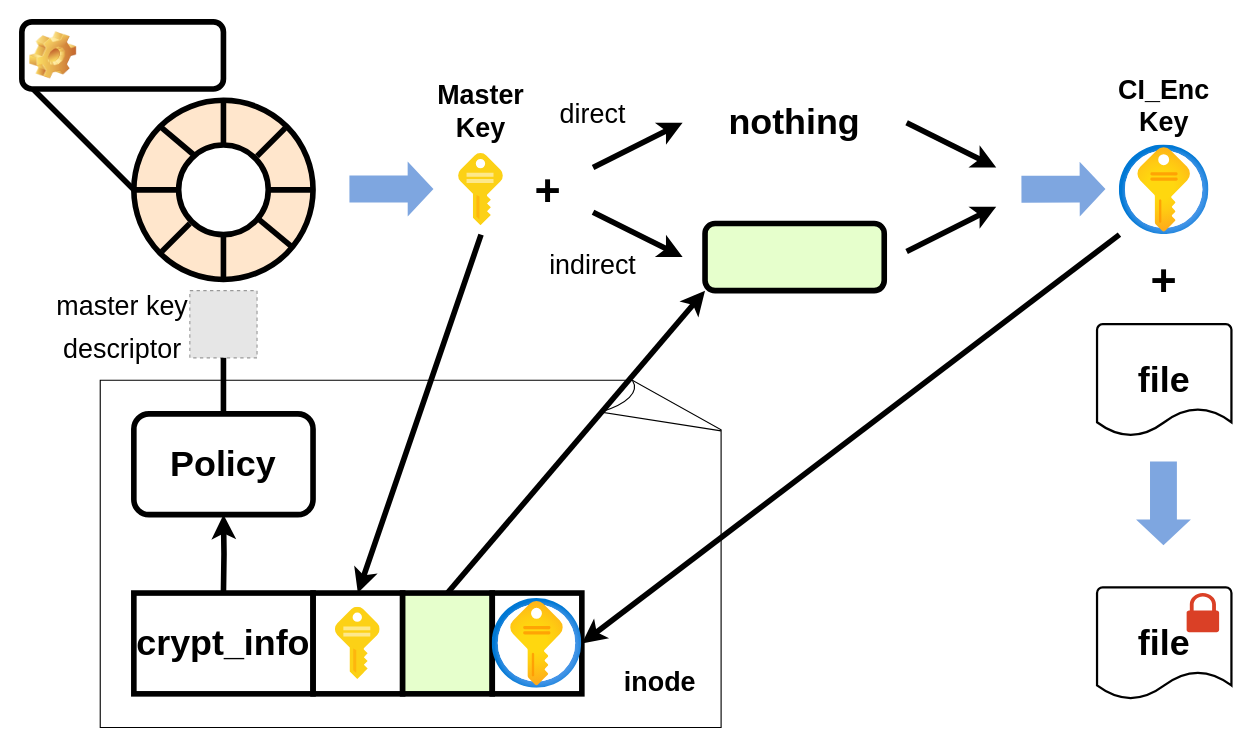
This 1252x747 diagram has some shape labels left out. Grey dashed boxes stand in for pictures. Each missing label, with the centre of its shape:
"keyring" belongs at point (122, 54).
"nonce" belongs at point (794, 256).
